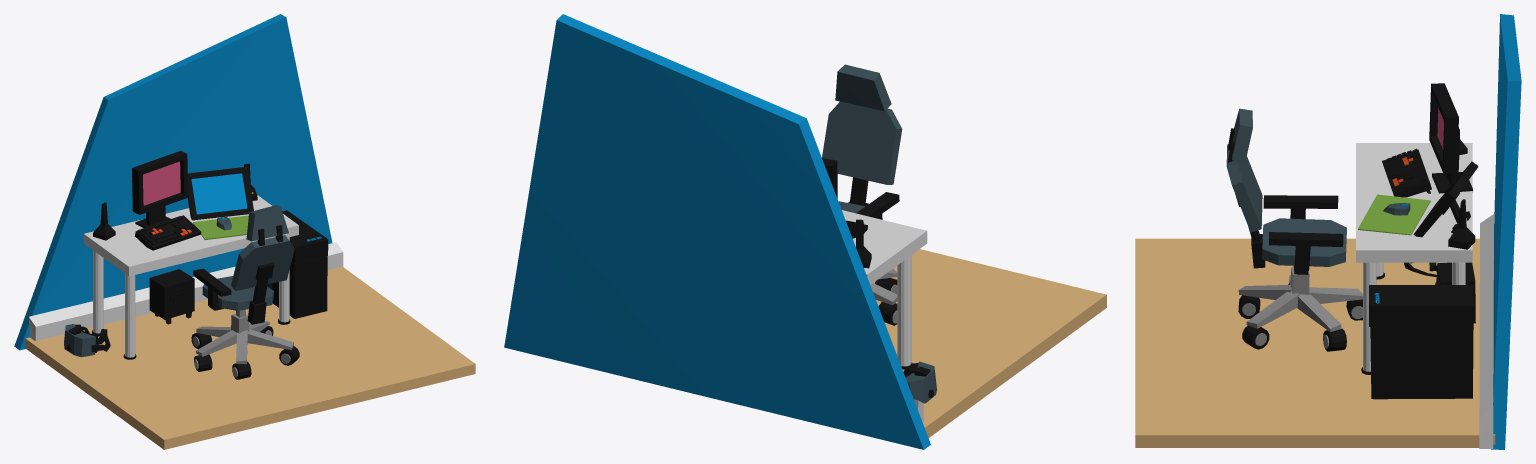
3 views of the same model, side by side, from view 1: azimuth 30°, elevation 25°; view 2: azimuth 150°, elevation 25°; view 3: azimuth 270°, elevation 25° (orthographic). The views are drawn at different scales.
Visible parts, largest first — view 1: node_MeshObject1983459328-PolyPaper21; view 2: node_MeshObject1983459328-PolyPaper21; view 3: node_MeshObject1983459328-PolyPaper21.
Part boxes in pixels (bbox=[...]): node_MeshObject1983459328-PolyPaper21: bbox=[14, 14, 475, 449]; node_MeshObject1983459328-PolyPaper21: bbox=[504, 14, 1106, 449]; node_MeshObject1983459328-PolyPaper21: bbox=[1135, 14, 1521, 449].
Size of the model in its own units: 2.04 by 1.61 by 1.66.
